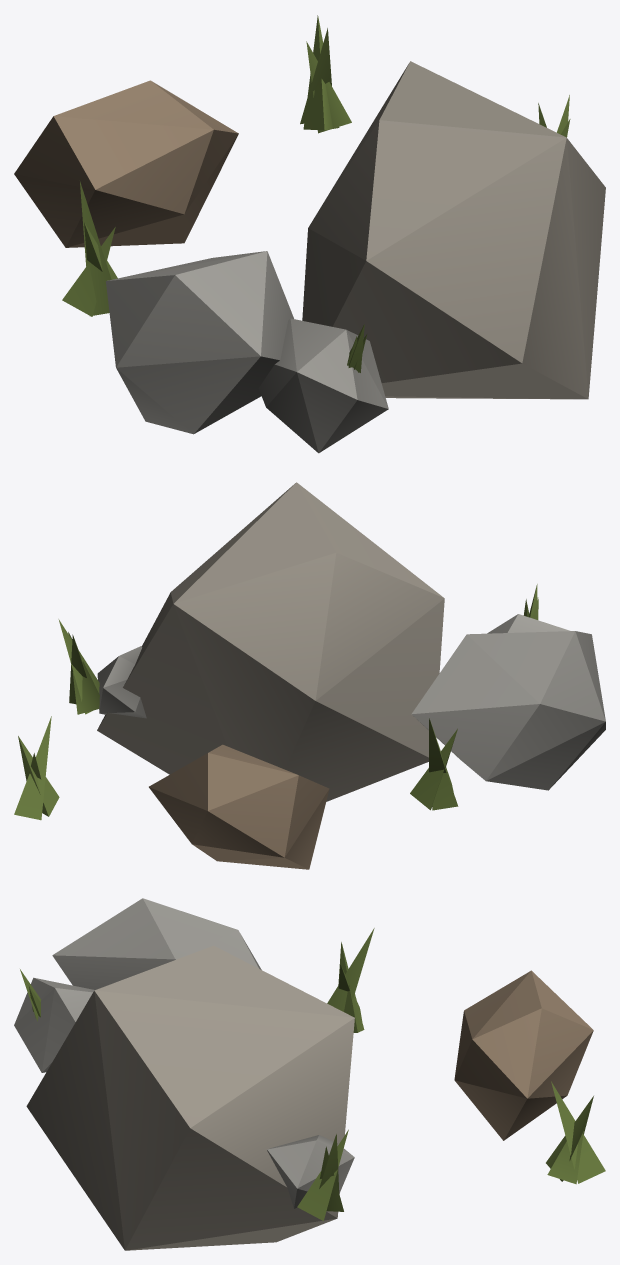
The model's file is rocks_a.glb.
3 views of the same model, one above another, from view 1: azimuth 30°, elevation 25°; view 2: azimuth 150°, elevation 25°; view 3: azimuth 270°, elevation 25° (orthographic). The views are drawn at different scales.
Visible parts, largest first — view 1: rocks_a; view 2: rocks_a; view 3: rocks_a.
Boxes of the visible parts, x1,y1,x2,y2 form: rocks_a: (14,15,605,453); rocks_a: (14,482,605,869); rocks_a: (14,898,605,1250).
Size of the model in its own units: 2.16 by 1.2 by 2.32.
